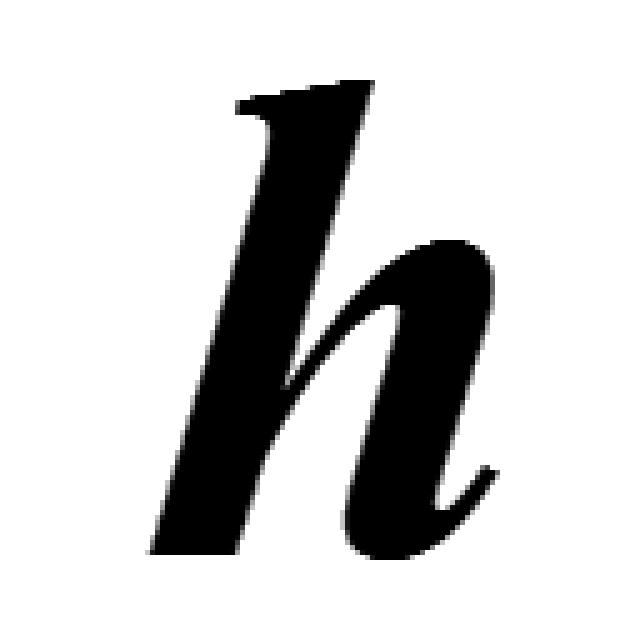H: (150, 80, 500, 565)
